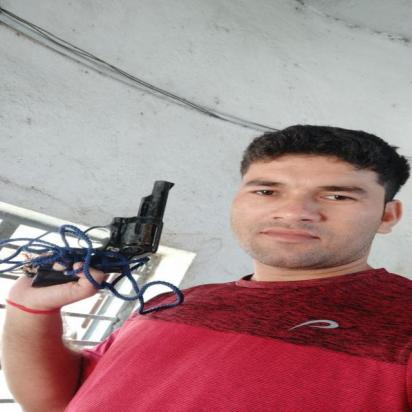Gun: (20, 178, 181, 291)
